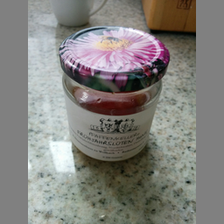honey: (55, 24, 174, 167)
